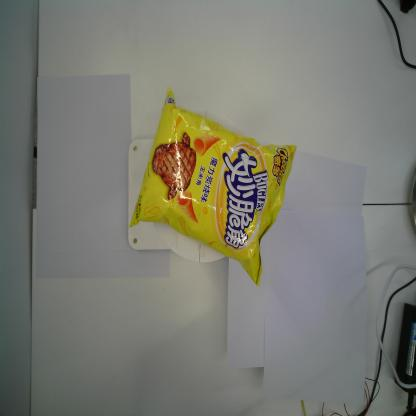Puffed Food: (128, 86, 299, 288)
